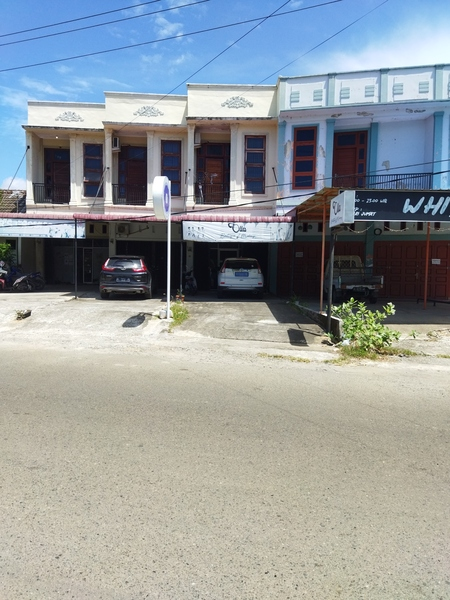car: (321, 253, 388, 306), (98, 251, 155, 305), (217, 254, 268, 302)
